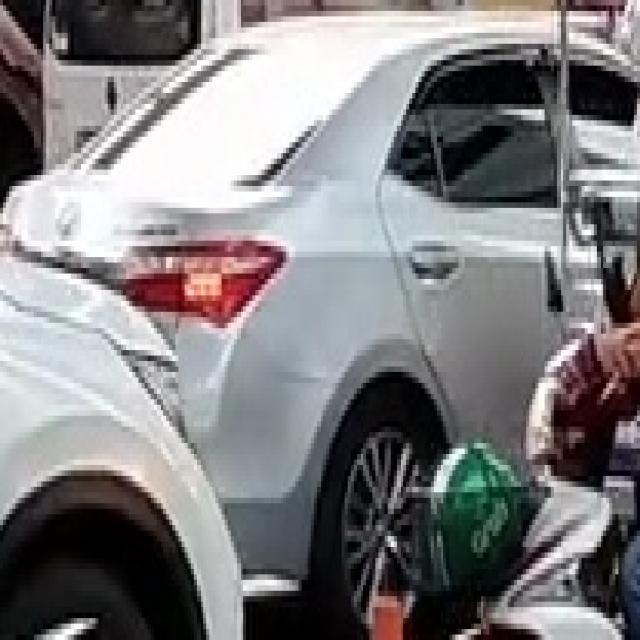door: (376, 38, 610, 476)
helmet: (425, 438, 526, 590)
tyre: (305, 372, 449, 629)
